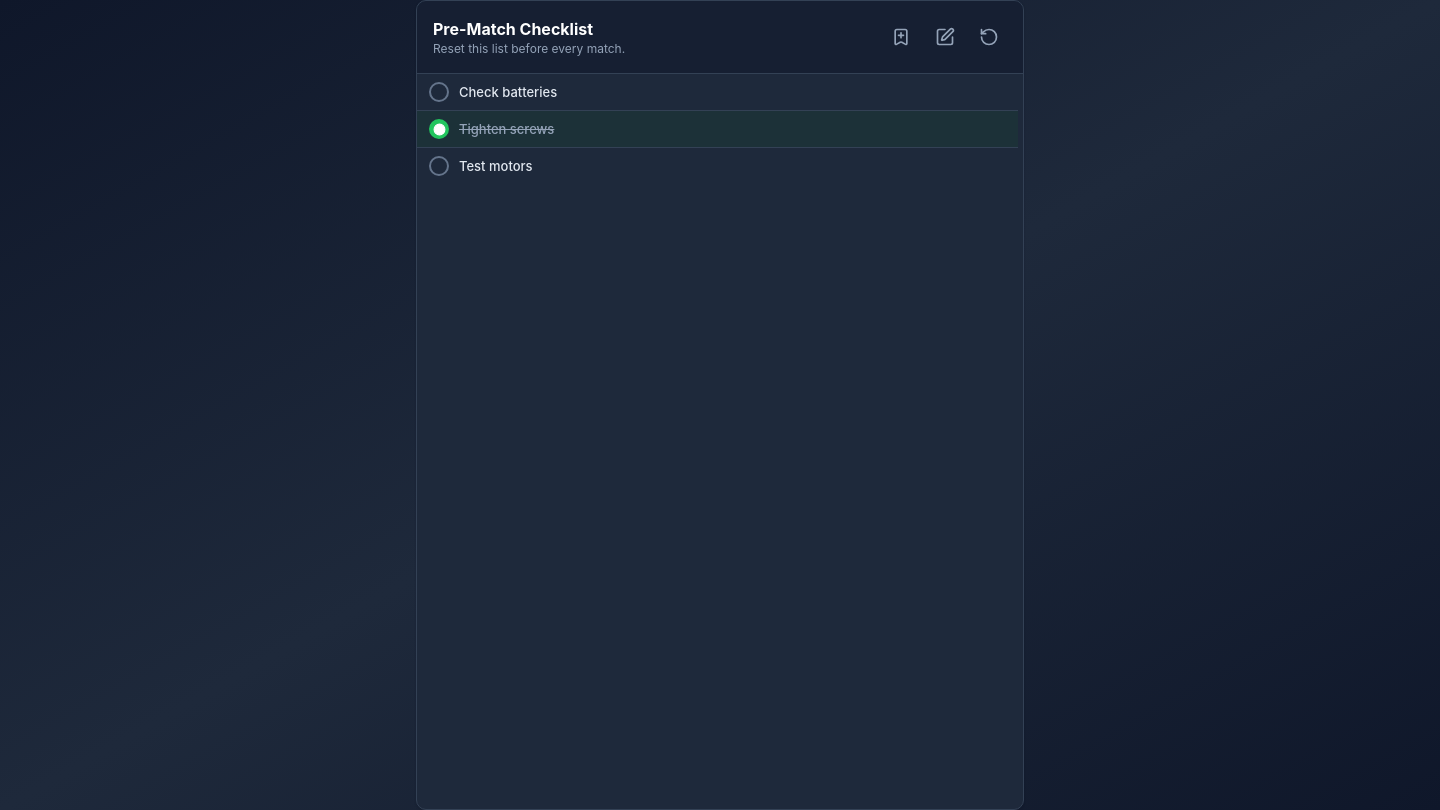
Test: PreMatchChecklist › puts the list into edit mode, where items can be added
Click the button with test id "edit-checklist" at (945, 37), box [927,19,963,55]
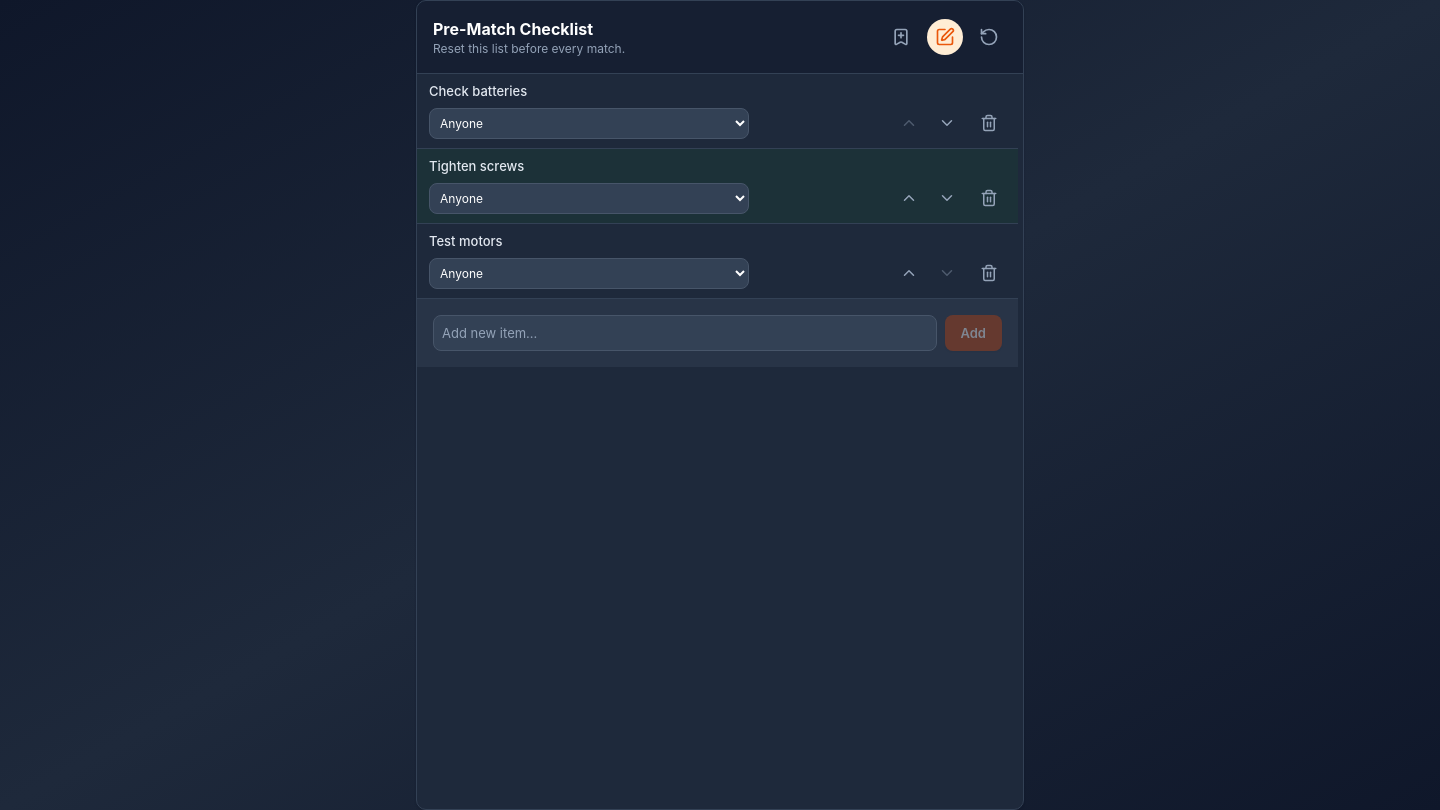
Expected: the button with test id "reset-checklist" is shown, [971,19,1007,55]
Result: the field with placeholder "Add new item..." is shown at [433,315,936,351]
Result: no buttons with test id "checklist-item-toggle" are shown
